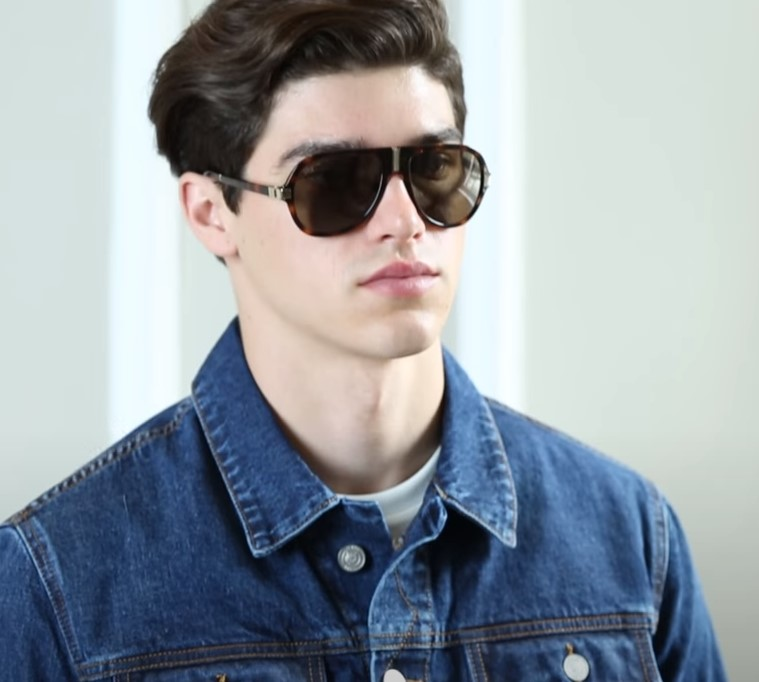face_no_mask: (210, 28, 474, 362)
